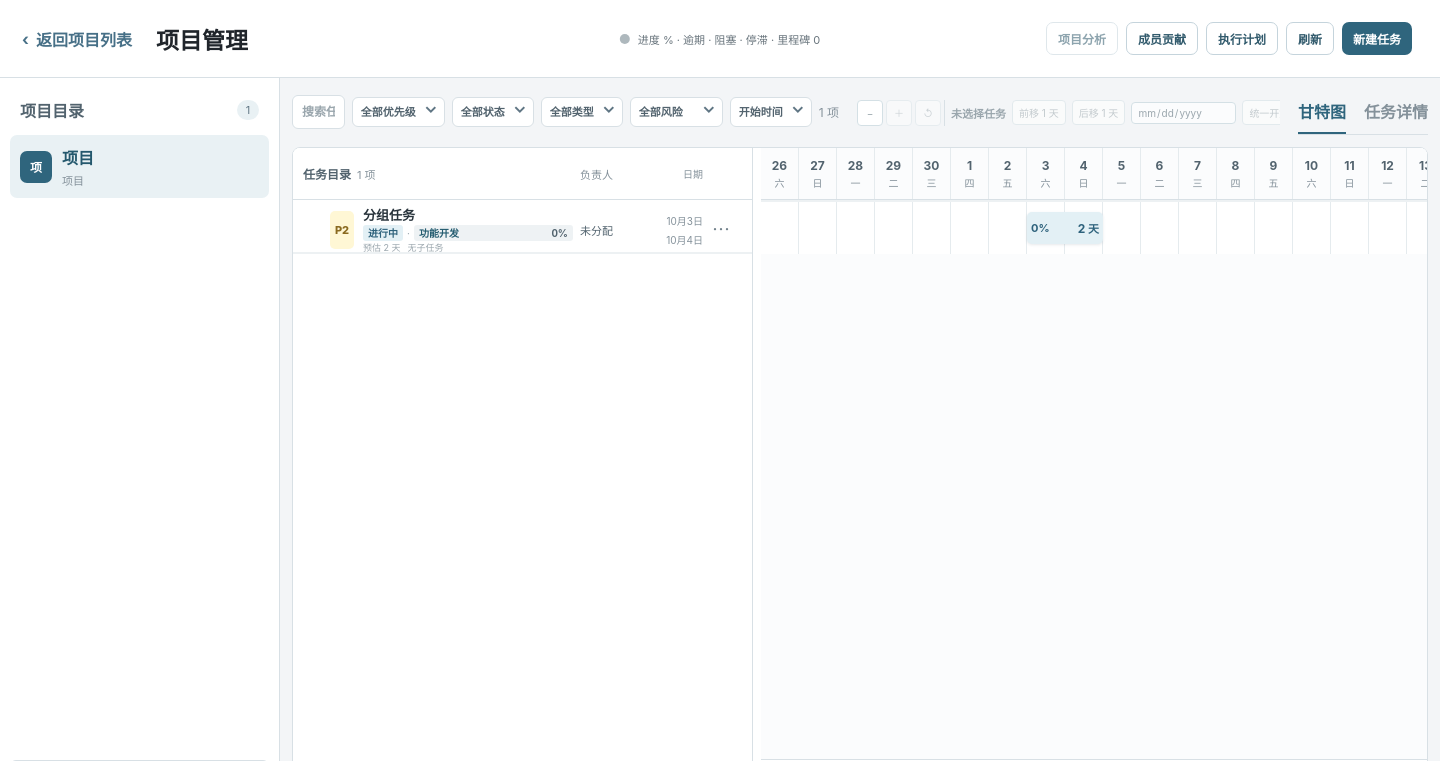
Test case: switches task detail tabs and keeps the active tab scoped to one content group
The image size is (1440, 761).
expect the text "分组任务" is shown: met, box [363,207,415,223]
Click the button with aria-label "分组任务 进行中 · feature · P2" at (467, 230), box [357,204,577,257]
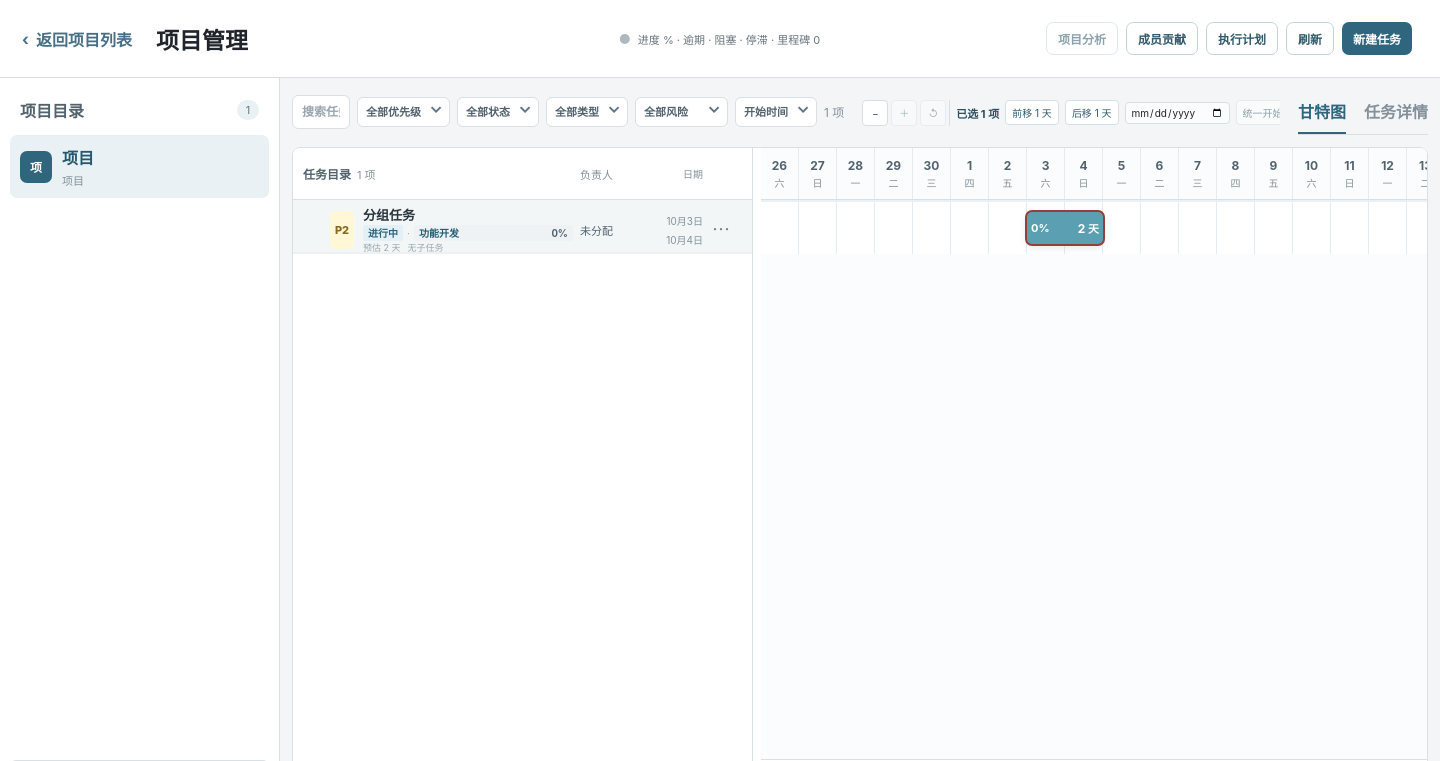
Click the tab "任务详情" at (1396, 112), box [1364,90,1428,134]
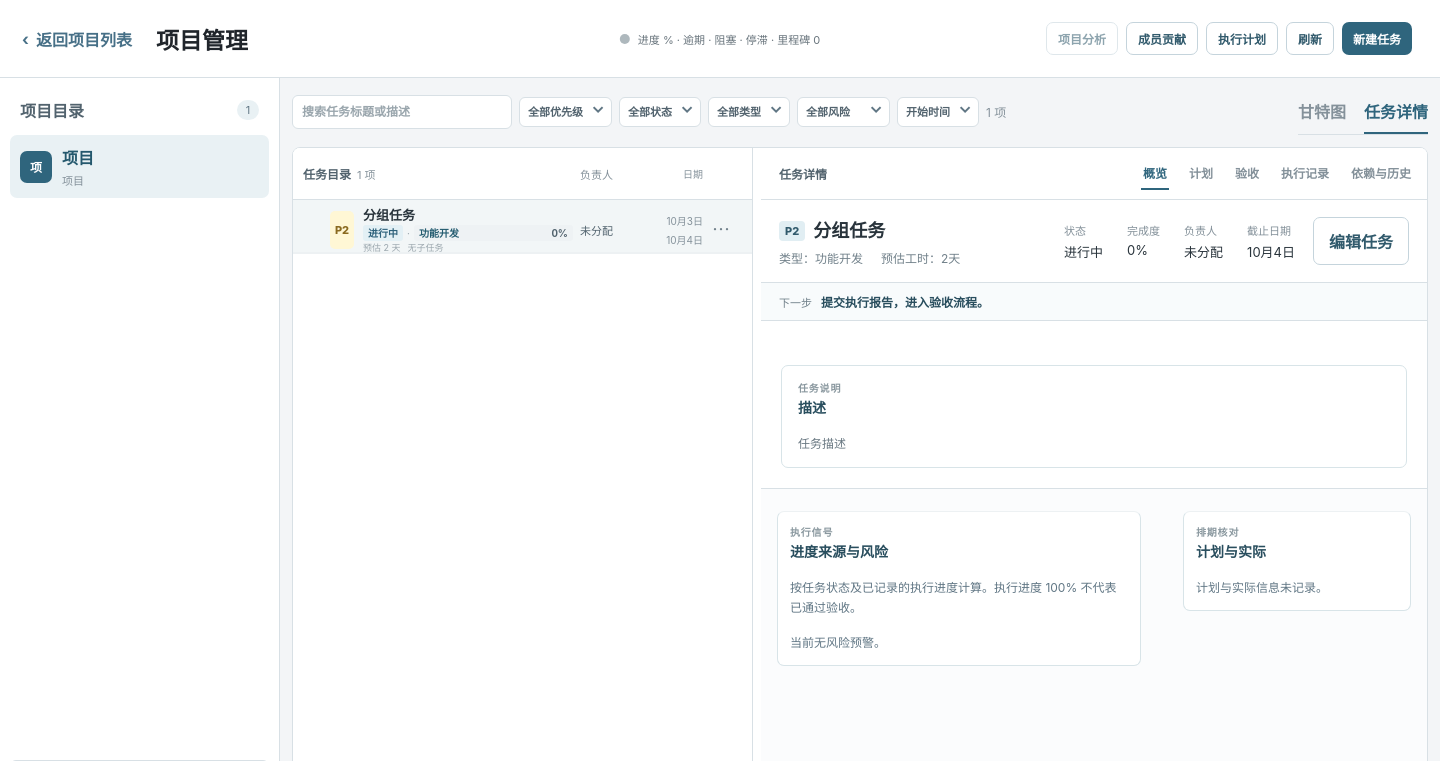
Click the tab "计划" at (1201, 174), box [1187,157,1215,190]
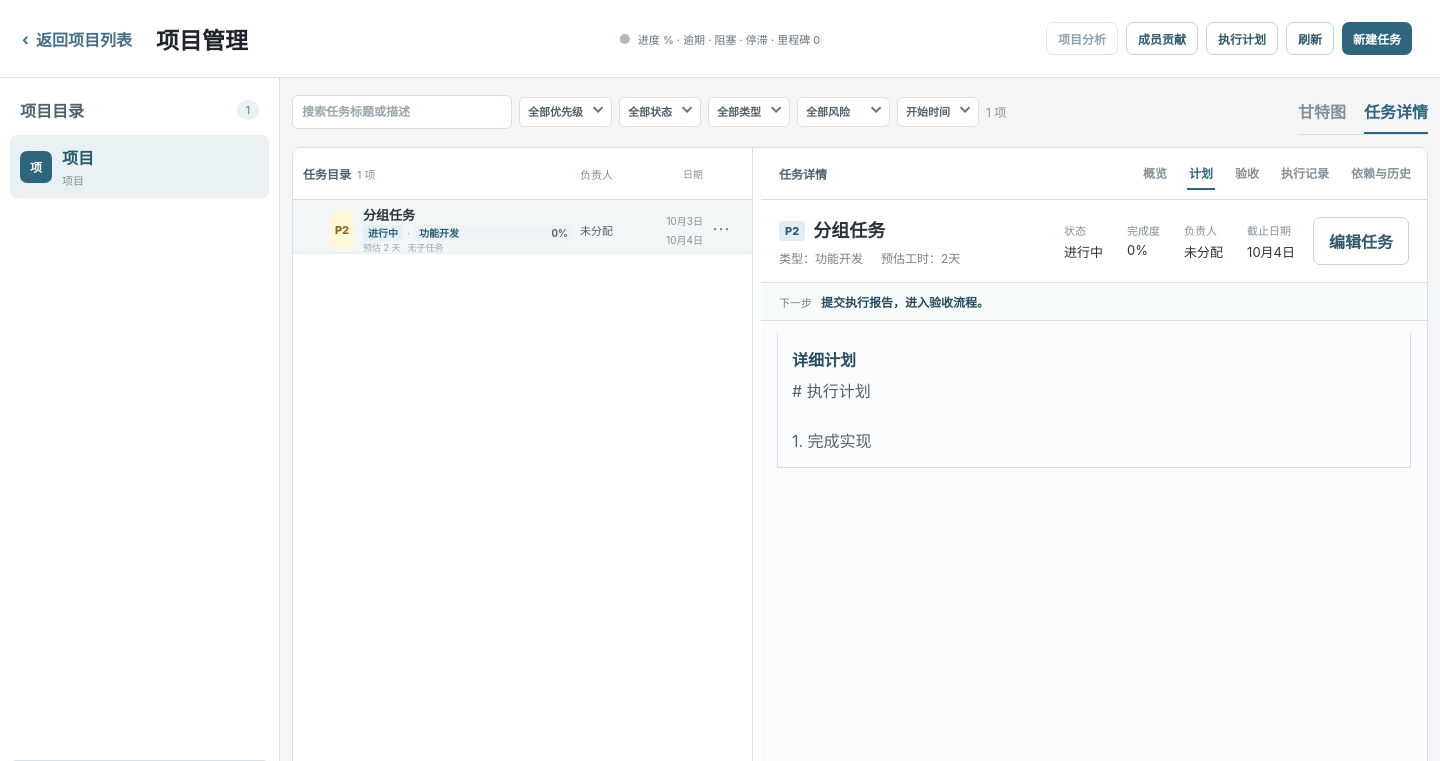
expect the button "执行计划" is shown: met, box [1206,22,1278,55]
expect the text "任务描述" is gone: met
Click the tab "执行记录" at (1305, 174), box [1279,157,1331,190]
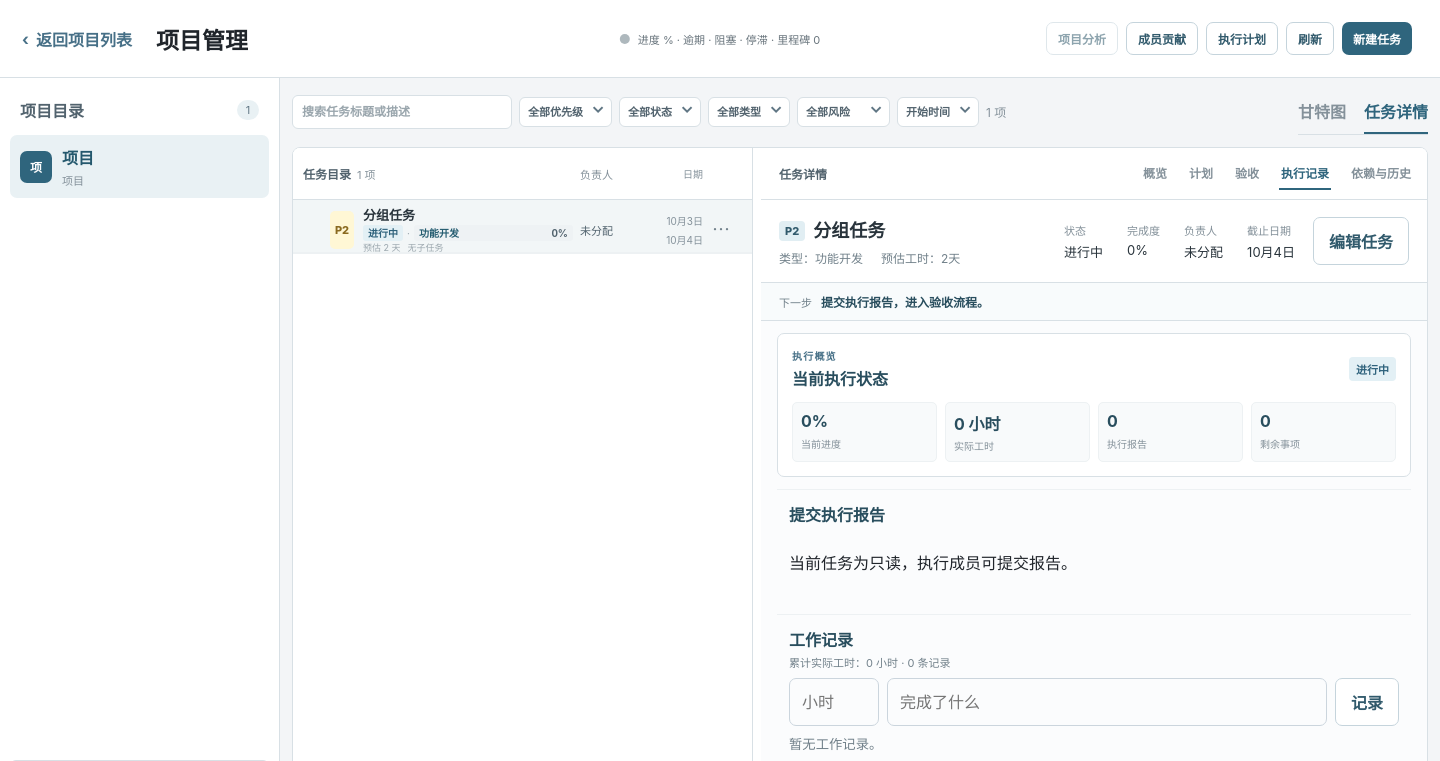
expect the heading "工作记录" is shown: met, box [789,630,853,650]
expect the heading "当前执行状态" is shown: met, box [792,366,888,390]
expect the heading "提交执行报告" is shown: met, box [789,505,885,525]
Click the tab "依赖与历史" at (1381, 174), box [1349,157,1413,190]
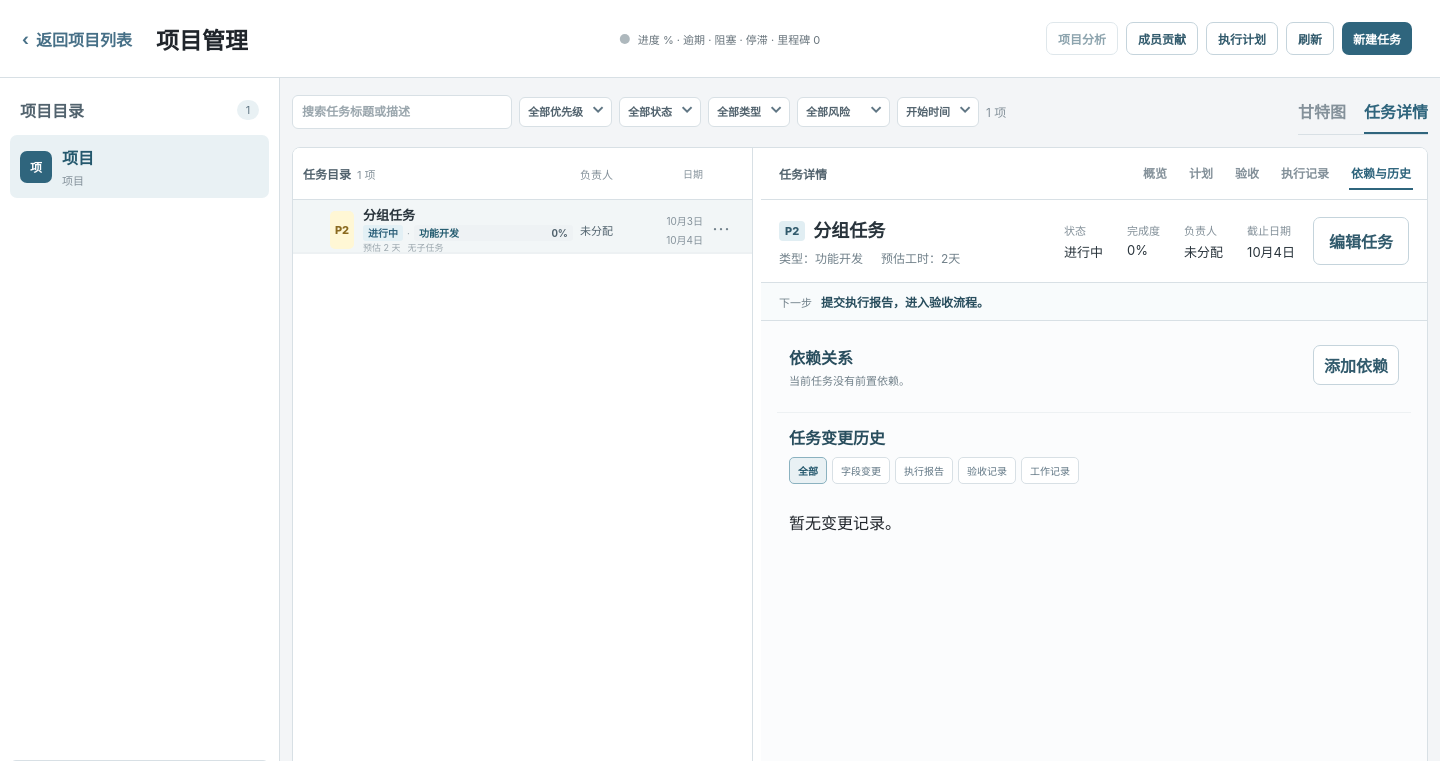
expect the heading "依赖关系" is shown: met, box [789,348,853,368]
expect the heading "任务变更历史" is shown: met, box [789,428,885,448]
Click the tab "概览" at (1155, 174), box [1141,157,1169,190]
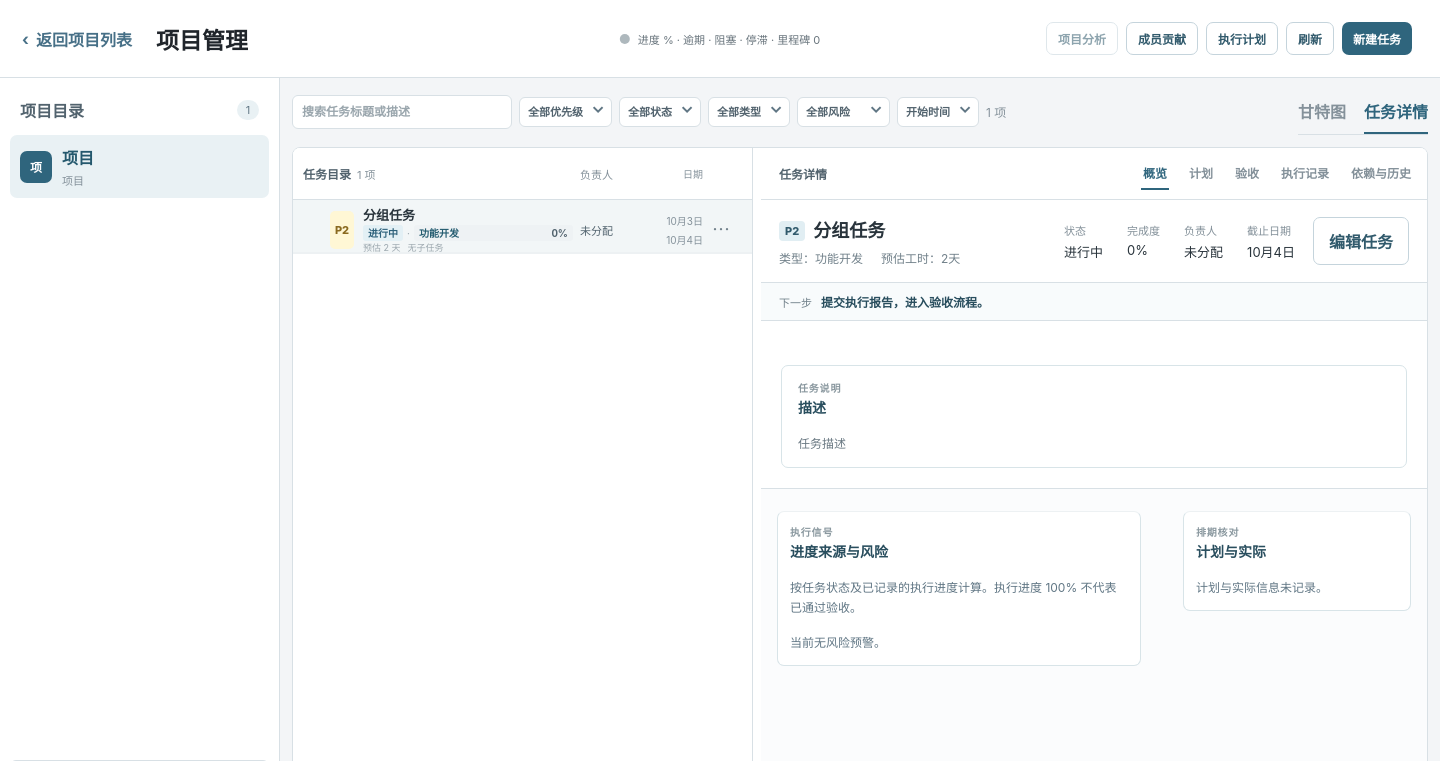
expect the text "任务描述" is shown: met, box [798,436,846,451]
expect the heading "描述" is shown: met, box [798,399,826,416]
